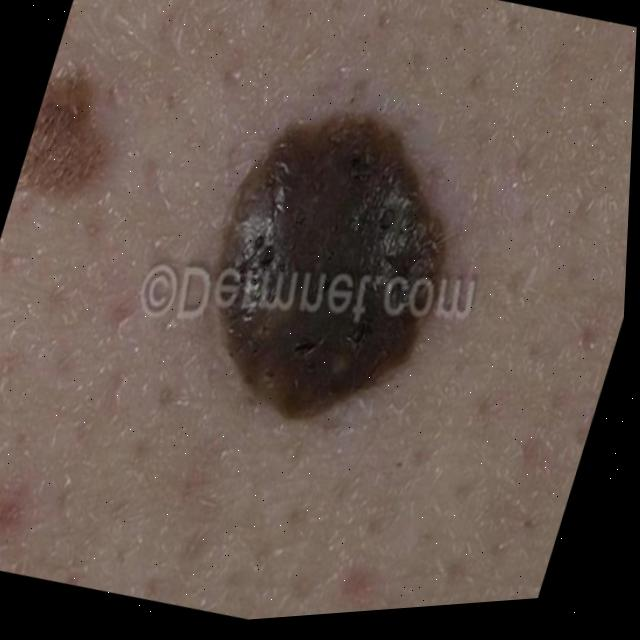Eczema: (225, 96, 456, 361), (16, 53, 113, 199)
